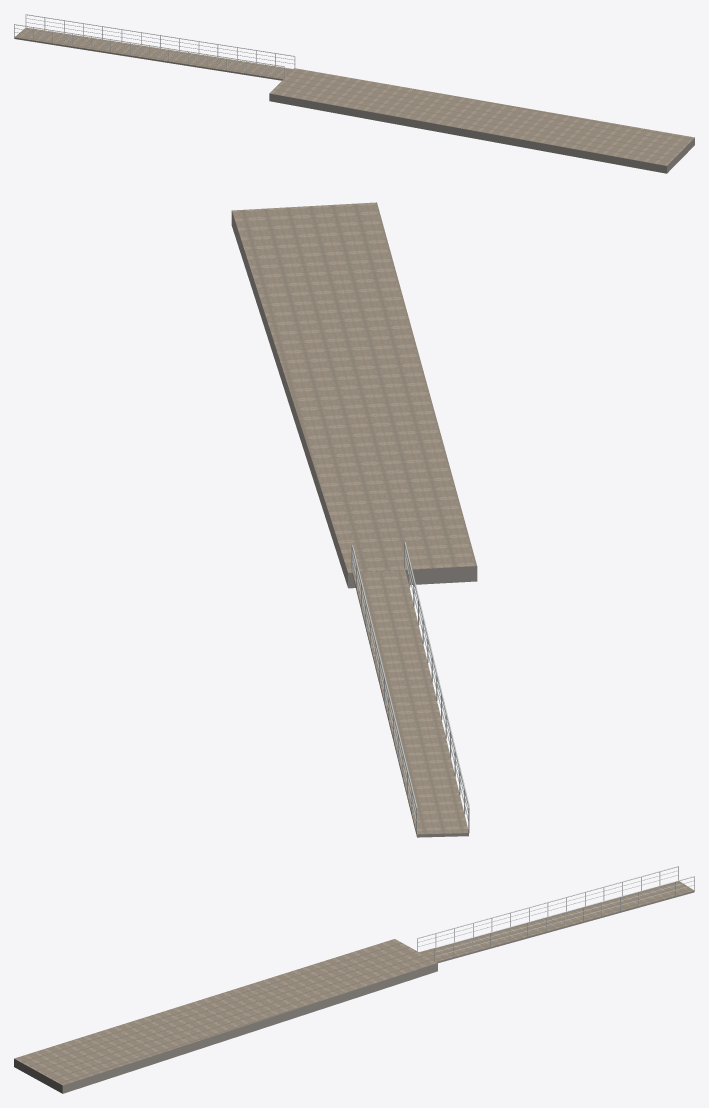
The picture shows the model from 3 angles, top to bottom: view 1: azimuth 30°, elevation 25°; view 2: azimuth 150°, elevation 25°; view 3: azimuth 270°, elevation 25°; orthographic projection. The views are drawn at different scales.
Parts seen in each view (by area): view 1: Landing wearing course, Exposed deck edge, Waterfront handrails; view 2: Landing wearing course, Exposed deck edge, Waterfront handrails; view 3: Landing wearing course, Exposed deck edge, Waterfront handrails.
Part boxes in pixels (x1,y1,x2,y2): Landing wearing course: (15,27,694,165); Exposed deck edge: (14,37,694,173); Waterfront handrails: (14,14,295,79); Landing wearing course: (232,202,476,834); Exposed deck edge: (231,211,477,837); Waterfront handrails: (351,542,469,834); Landing wearing course: (14,881,693,1085); Exposed deck edge: (14,890,694,1093); Waterfront handrails: (417,866,694,962).
Bounding box in the file's own units: 34.7 × 1.9 × 46.69.
Materials: 4 (1 with a texture image).
